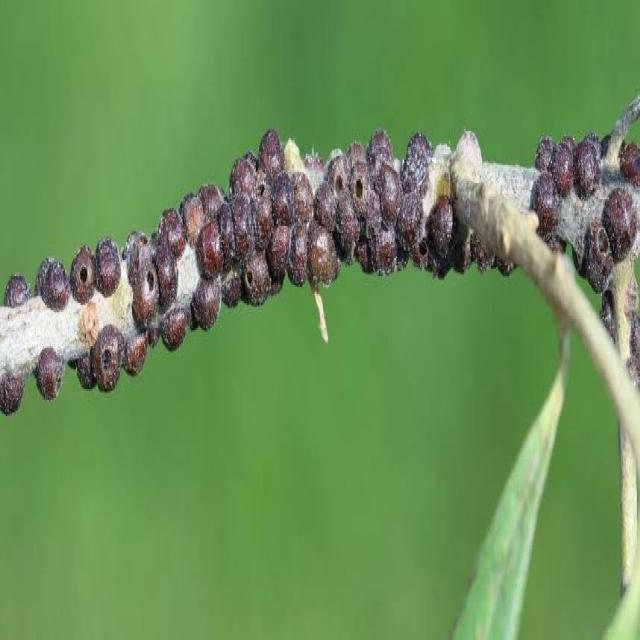BlackScale: (179, 129, 293, 335), (316, 130, 432, 272), (530, 133, 602, 238), (126, 210, 185, 328), (582, 188, 640, 292), (71, 324, 148, 390), (69, 238, 120, 303), (288, 171, 314, 294), (428, 195, 452, 276), (148, 308, 190, 352), (35, 258, 70, 310), (34, 346, 62, 400), (0, 274, 31, 318), (0, 372, 26, 411), (620, 138, 639, 185)
